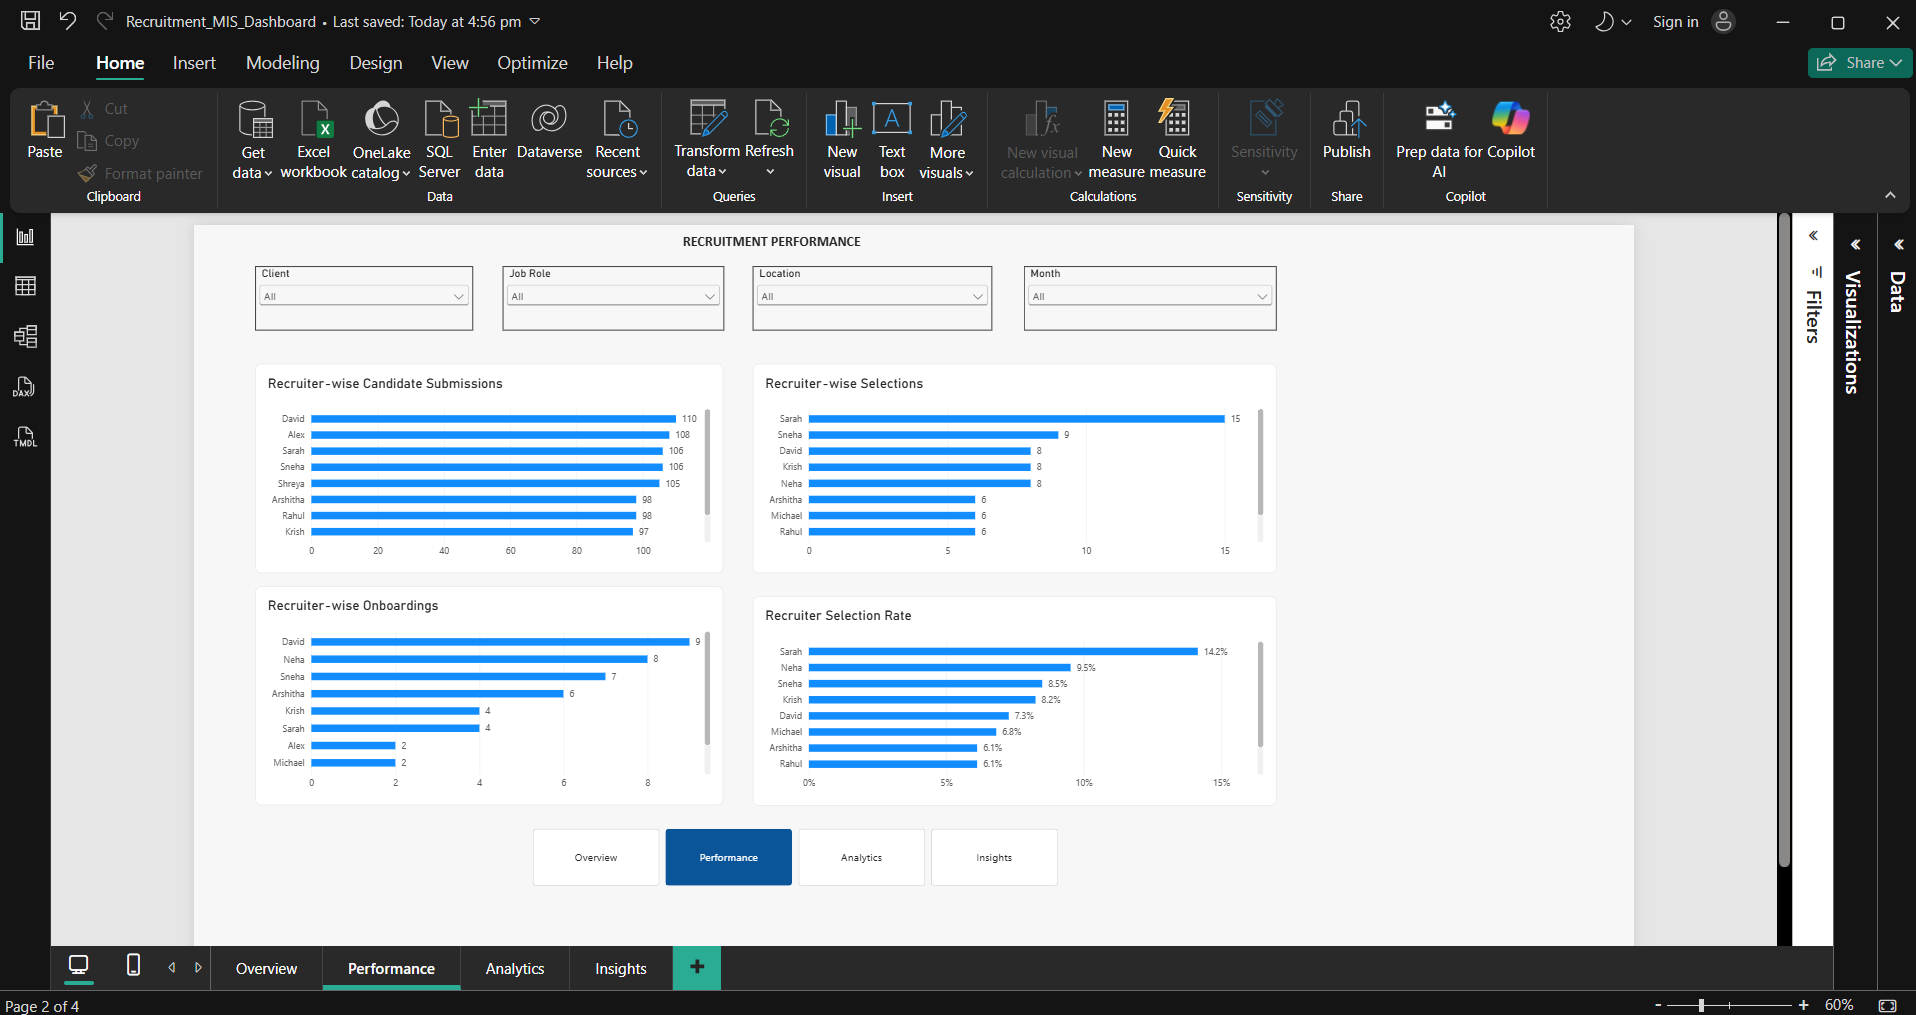

The dashboard page shown, as its layout file describes it:
{"tool":"powerbi","page":{"name":"Performance","canvas":[1920,1080],"ordinal":1},"visuals":[{"type":"clusteredBarChart","title":"Recruiter-wise Candidate Submissions","fields":{"Category":["Candidate Submissions.Recruiter"],"Y":["CountNonNull(Candidate Submissions.Candidate ID)"]},"box":[9.2,120.4,465.3,228.6],"z":0},{"type":"clusteredBarChart","title":"Recruiter-wise Selections","fields":{"Category":["Candidate Submissions.Recruiter"],"Y":["Candidate Submissions.Selected Candidates"]},"box":[482.7,121.4,431.6,227.6],"z":1000},{"type":"clusteredBarChart","title":"Recruiter-wise Onboardings","fields":{"Category":["Candidate Submissions.Recruiter"],"Y":["Candidate Submissions.Onboarded Candidates"]},"box":[9.2,365.3,465.3,236.7],"z":2000},{"type":"clusteredBarChart","title":"Recruiter Selection Rate","fields":{"Category":["Candidate Submissions.Recruiter"],"Y":["Candidate Submissions.Selection Rate"]},"box":[487.8,366.3,426.5,235.7],"z":3000},{"type":"slicer","fields":{"Values":["Candidate Submissions.Client"]},"box":[9.2,55.1,185.7,65.3],"z":4000},{"type":"slicer","fields":{"Values":["Candidate Submissions.Job Role"]},"box":[211.2,55.1,263.3,65.3],"z":5000},{"type":"slicer","fields":{"Values":["Candidate Submissions.Location"]},"box":[482.7,55.1,220.4,65.3],"z":6000},{"type":"slicer","fields":{"Values":["Candidate Submissions.Month"]},"box":[710.2,55.1,213.3,65.3],"z":7000},{"type":"textbox","box":[9.2,10.2,905.1,31.6],"z":8000},{"type":"pageNavigator","box":[173.8,635,600,50],"z":8001}]}

Visuals, with their boxes on the page's 1920x1080 design canvas (x1, y1, x2, y2). These are canvas units, not pixel positions in the 1916x1015 screenshot, which may show the page scaled, cropped or inside an application window:
"Recruiter-wise Candidate Submissions" clusteredBarChart: (9, 120, 474, 349)
"Recruiter-wise Selections" clusteredBarChart: (483, 121, 914, 349)
"Recruiter-wise Onboardings" clusteredBarChart: (9, 365, 474, 602)
"Recruiter Selection Rate" clusteredBarChart: (488, 366, 914, 602)
slicer - Candidate Submissions.Client: (9, 55, 195, 120)
slicer - Candidate Submissions.Job Role: (211, 55, 474, 120)
slicer - Candidate Submissions.Location: (483, 55, 703, 120)
slicer - Candidate Submissions.Month: (710, 55, 924, 120)
textbox: (9, 10, 914, 42)
pageNavigator: (174, 635, 774, 685)
